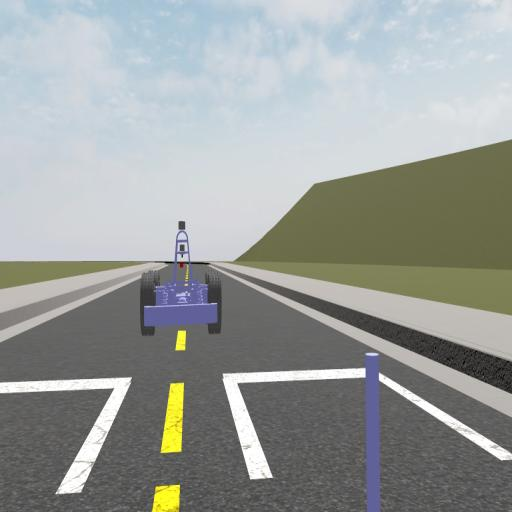ERP-42: (141, 221, 222, 335)
